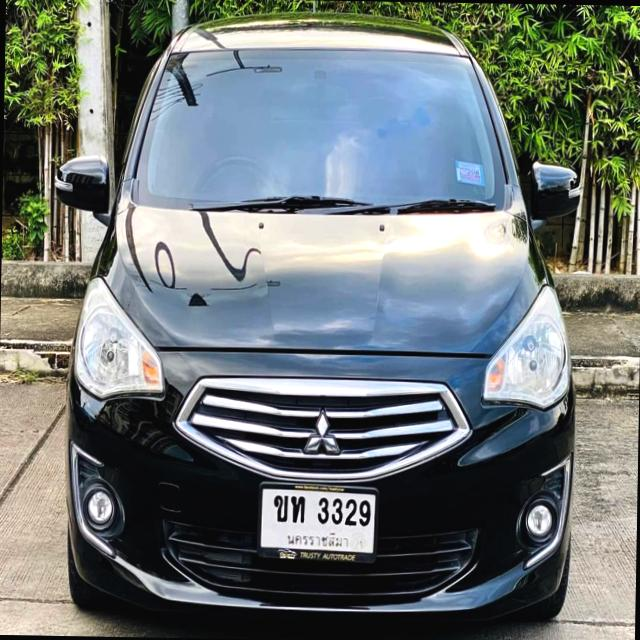license_plate: (257, 476, 382, 567)
